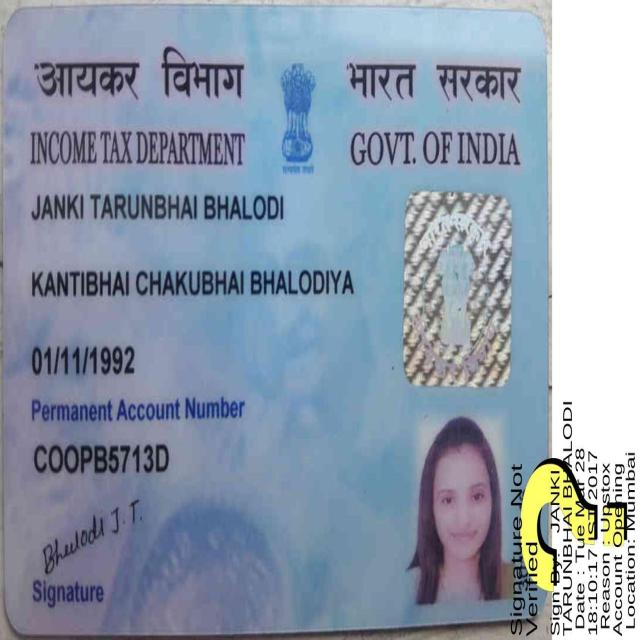pan_card: (13, 24, 535, 615)
